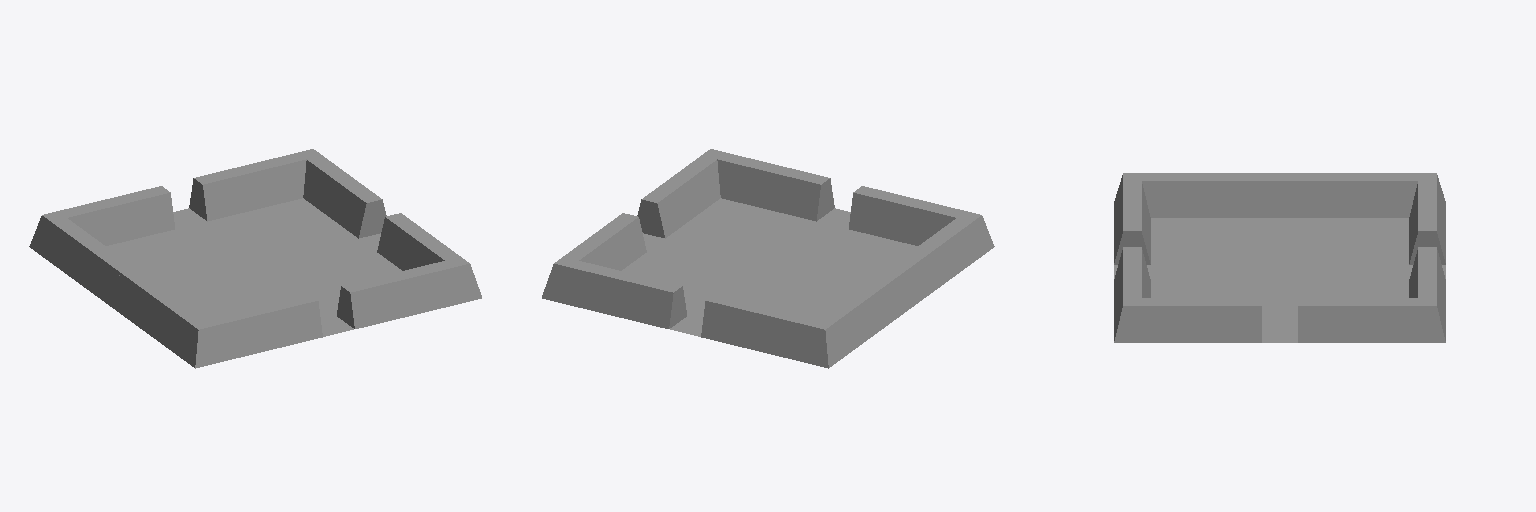
The model's file is sala_13.obj.
3 views of the same model, side by side, from view 1: azimuth 30°, elevation 25°; view 2: azimuth 150°, elevation 25°; view 3: azimuth 270°, elevation 25° (orthographic).
Visible parts, largest first — view 1: Ground_Plane, Wall.005_Cube.002, Wall.002_Cube.014, Wall.007_Cube.017, Wall.001_Cube.012, Wall.003_Cube.010, Wall.000_Cube.011, Wall.006_Cube.016, Wall.004_Cube.015; view 2: Ground_Plane, Wall.007_Cube.017, Wall.000_Cube.011, Wall.005_Cube.002, Wall.003_Cube.010, Wall.001_Cube.012, Wall.002_Cube.014, Wall.004_Cube.015, Wall.006_Cube.016; view 3: Ground_Plane, Wall.004_Cube.015, Wall.006_Cube.016, Wall.003_Cube.010, Wall.001_Cube.012, Wall.000_Cube.011, Wall.002_Cube.014, Wall.005_Cube.002, Wall.007_Cube.017.
Boxes of the visible parts, box(x1,y1,x2,y2) form: Ground_Plane: box(106, 198, 401, 336); Wall.005_Cube.002: box(337, 261, 481, 328); Wall.002_Cube.014: box(195, 294, 322, 368); Wall.007_Cube.017: box(189, 149, 312, 221); Wall.001_Cube.012: box(29, 215, 135, 306); Wall.003_Cube.010: box(112, 269, 204, 367); Wall.000_Cube.011: box(44, 186, 174, 245); Wall.006_Cube.016: box(303, 149, 386, 238); Wall.004_Cube.015: box(377, 213, 468, 270); Ground_Plane: box(622, 198, 917, 336); Wall.007_Cube.017: box(542, 261, 686, 328); Wall.000_Cube.011: box(701, 294, 828, 368); Wall.005_Cube.002: box(711, 149, 834, 221); Wall.003_Cube.010: box(888, 215, 994, 306); Wall.001_Cube.012: box(819, 269, 911, 367); Wall.002_Cube.014: box(849, 186, 979, 245); Wall.004_Cube.015: box(637, 149, 720, 238); Wall.006_Cube.016: box(555, 213, 646, 270); Ground_Plane: box(1114, 218, 1445, 342); Wall.004_Cube.015: box(1114, 298, 1261, 342); Wall.006_Cube.016: box(1298, 298, 1445, 342); Wall.003_Cube.010: box(1124, 173, 1279, 217); Wall.001_Cube.012: box(1280, 173, 1435, 217); Wall.000_Cube.011: box(1409, 173, 1445, 264); Wall.002_Cube.014: box(1114, 173, 1150, 264); Wall.005_Cube.002: box(1114, 247, 1150, 340); Wall.007_Cube.017: box(1409, 247, 1445, 340).
Bounding box in the file's own units: 18 × 2 × 18.